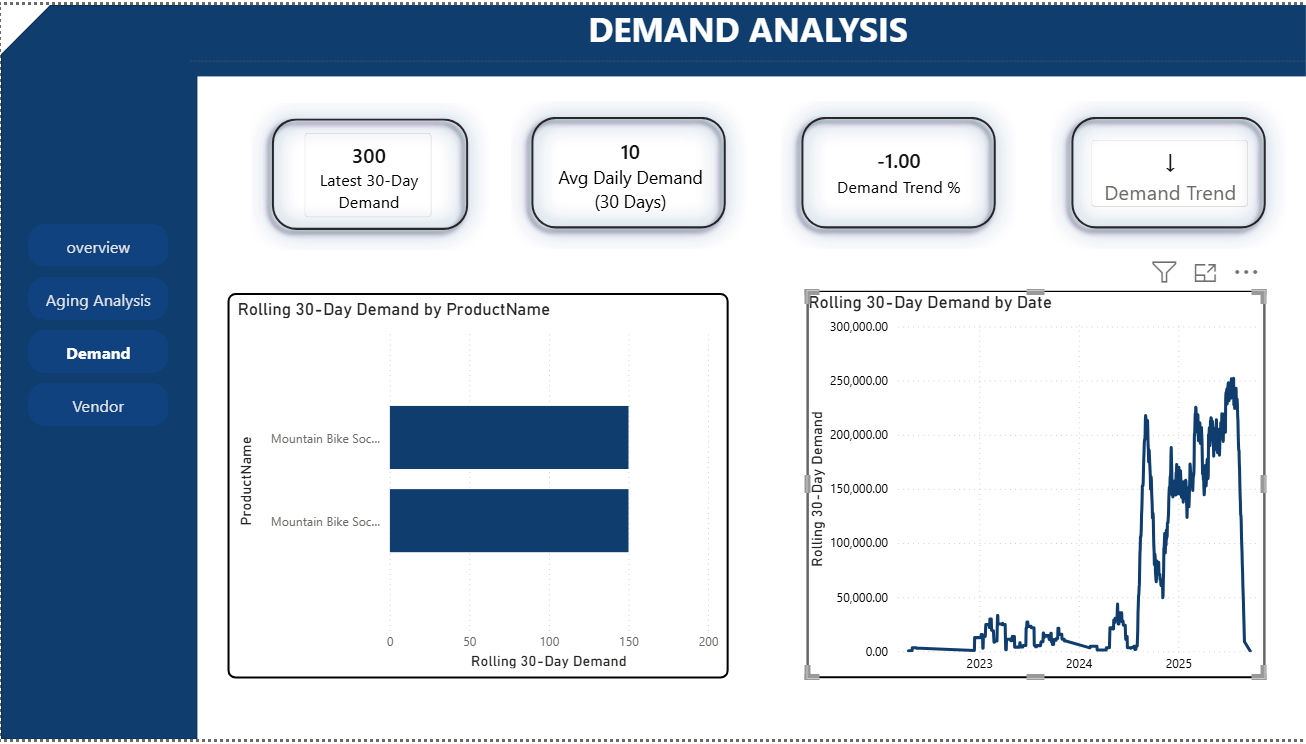

This screenshot's page, from the dashboard's own definition file:
{"tool":"powerbi","page":{"name":"Demand","canvas":[1280,720],"ordinal":2},"visuals":[{"type":"shape","box":[0,0,192.8,720],"z":0},{"type":"cardVisual","title":"C_DemandTrend %","fields":{"Data":["Damand Measure.Demand Trend %"]},"box":[789.9,103.9,181.4,120.9],"z":0,"group":"g3"},{"type":"cardVisual","title":"C_Average Daily Demand","fields":{"Data":["Damand Measure.Ave Daily Demand"]},"box":[521.6,107.7,190.9,119.1],"z":0,"group":"g2"},{"type":"cardVisual","title":"C_L30DDemand ","fields":{"Data":["Damand Measure.Latest 30 days Demand"]},"box":[285.4,113.4,149.3,107.7],"z":0,"group":"g1"},{"type":"cardVisual","title":"C_Demand Trend","fields":{"Data":["Damand Measure.Demand Trend"]},"box":[1050.7,115.3,189,100.2],"z":0,"group":"g4"},{"type":"shape","title":"S_AvgDailyDemand","box":[500,90,230.6,149.3],"z":1000,"group":"g2"},{"type":"shape","title":"S_DemandTrend%","box":[765,90,230.6,149.3],"z":1000,"group":"g3"},{"type":"shape","title":"S_DemandTrend","box":[1029,90,230.6,149.3],"z":1000,"group":"g4"},{"type":"shape","title":"S_L30Day Demand","box":[245,90.7,232.4,149.3],"z":1000,"group":"g1"},{"type":"lineChart","fields":{"Y":["Damand Measure.Rolling 30-Day Demand"],"Category":["DimDate.Date"]},"box":[754,281.6,434.6,379.8],"z":1000},{"type":"clusteredBarChart","fields":{"Category":["DimProduct.ProductName"],"Y":["Damand Measure.Rolling 30-Day Demand"]},"box":[222,282.4,465.4,403.1],"z":2000},{"type":"group","id":"g1","title":"L30 day Demand","box":[245,90.7,232.4,149.3],"z":3000},{"type":"group","id":"g2","title":"Avg Daily Demand","box":[500,90,230.6,149.3],"z":4000},{"type":"group","id":"g3","title":"Demand Trend %","box":[765,90,230.6,149.3],"z":5000},{"type":"group","id":"g4","title":"Demand Trend","box":[1029,90,230.6,149.3],"z":6000},{"type":"actionButton","title":"DEMAND ANALYSIS","box":[185.2,0,1094.2,69.9],"z":6001},{"type":"pageNavigator","title":"PN_Overview","box":[27,215,138,200],"z":6002}]}

Visuals, with their boxes on the page's 1280x720 design canvas (x1, y1, x2, y2). These are canvas units, not pixel positions in the 1306x744 screenshot, which may show the page scaled, cropped or inside an application window:
shape: (left=0, top=0, right=193, bottom=720)
"C_DemandTrend %" cardVisual: (left=790, top=104, right=971, bottom=225)
"C_Average Daily Demand" cardVisual: (left=522, top=108, right=712, bottom=227)
"C_L30DDemand " cardVisual: (left=285, top=113, right=435, bottom=221)
"C_Demand Trend" cardVisual: (left=1051, top=115, right=1240, bottom=216)
"S_AvgDailyDemand" shape: (left=500, top=90, right=731, bottom=239)
"S_DemandTrend%" shape: (left=765, top=90, right=996, bottom=239)
"S_DemandTrend" shape: (left=1029, top=90, right=1260, bottom=239)
"S_L30Day Demand" shape: (left=245, top=91, right=477, bottom=240)
lineChart - Damand Measure.Rolling 30-Day Demand x DimDate.Date: (left=754, top=282, right=1189, bottom=661)
clusteredBarChart - DimProduct.ProductName x Damand Measure.Rolling 30-Day Demand: (left=222, top=282, right=687, bottom=686)
"L30 day Demand" group: (left=245, top=91, right=477, bottom=240)
"Avg Daily Demand" group: (left=500, top=90, right=731, bottom=239)
"Demand Trend %" group: (left=765, top=90, right=996, bottom=239)
"Demand Trend" group: (left=1029, top=90, right=1260, bottom=239)
"DEMAND ANALYSIS" actionButton: (left=185, top=0, right=1279, bottom=70)
"PN_Overview" pageNavigator: (left=27, top=215, right=165, bottom=415)
